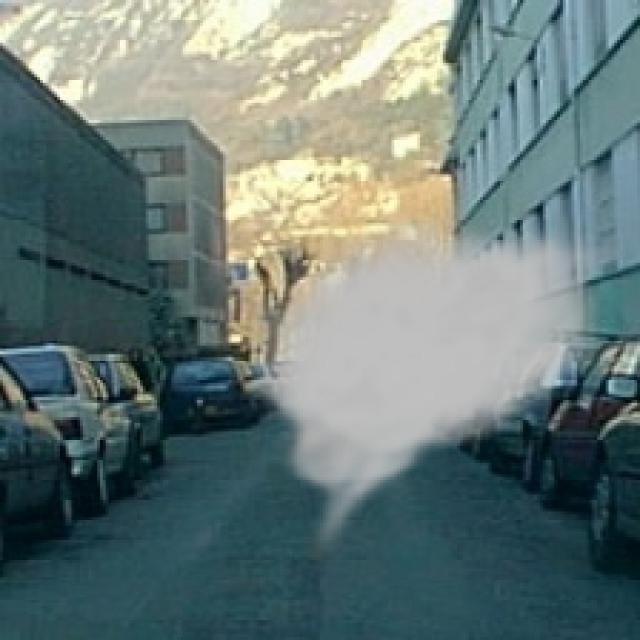smoke: (237, 212, 626, 557)
